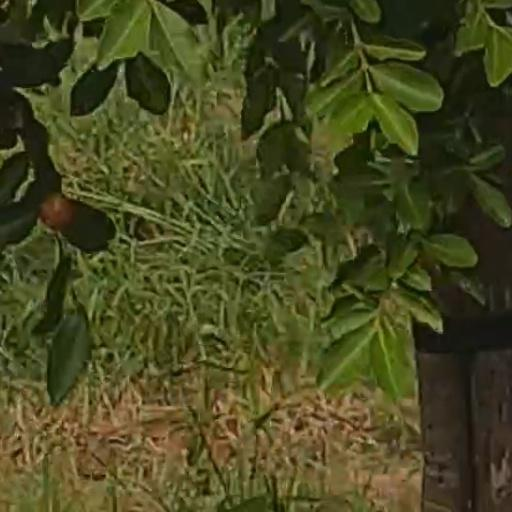acerola: (41, 196, 73, 230)
